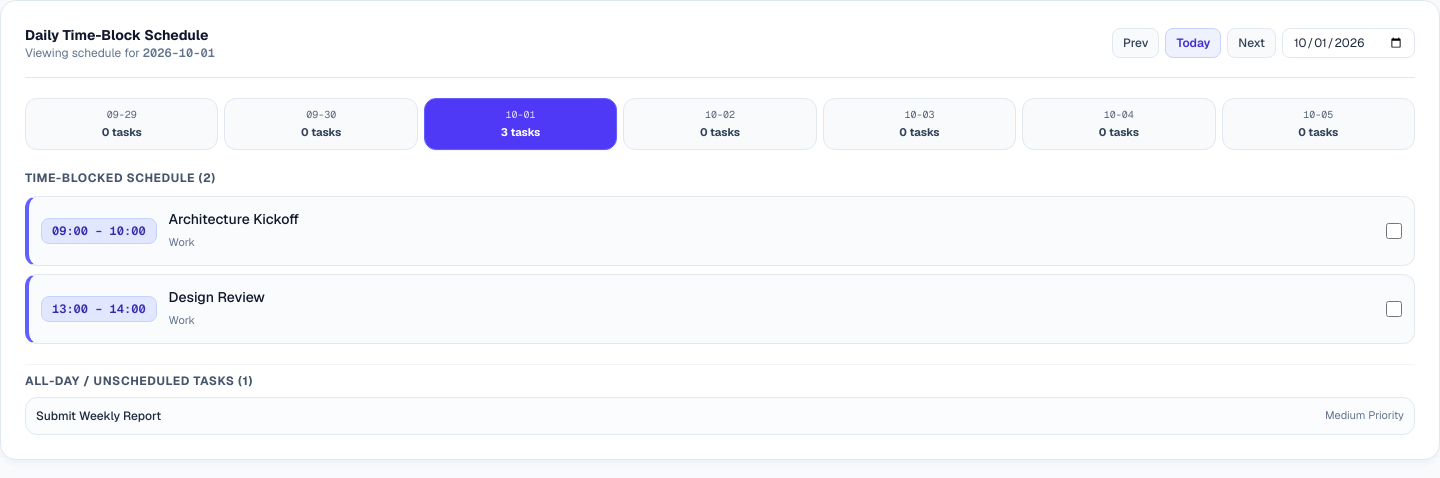
CalendarScheduleView › renders time-blocked tasks in chronological order and all-day tasks for the selected date, and switches dates
The width and height of the screenshot is (1440, 478).
expect the list item "09:00 – 10:00 Architecture Kickoff Work" is shown: met, box [25,196,1415,266]
expect the list item "13:00 – 14:00 Design Review Work" is shown: met, box [25,274,1415,344]
// Switch date using the date picker
Type "2026-10-15" into the date field named "select schedule date" at [1348, 43], box [1282,28,1415,58]
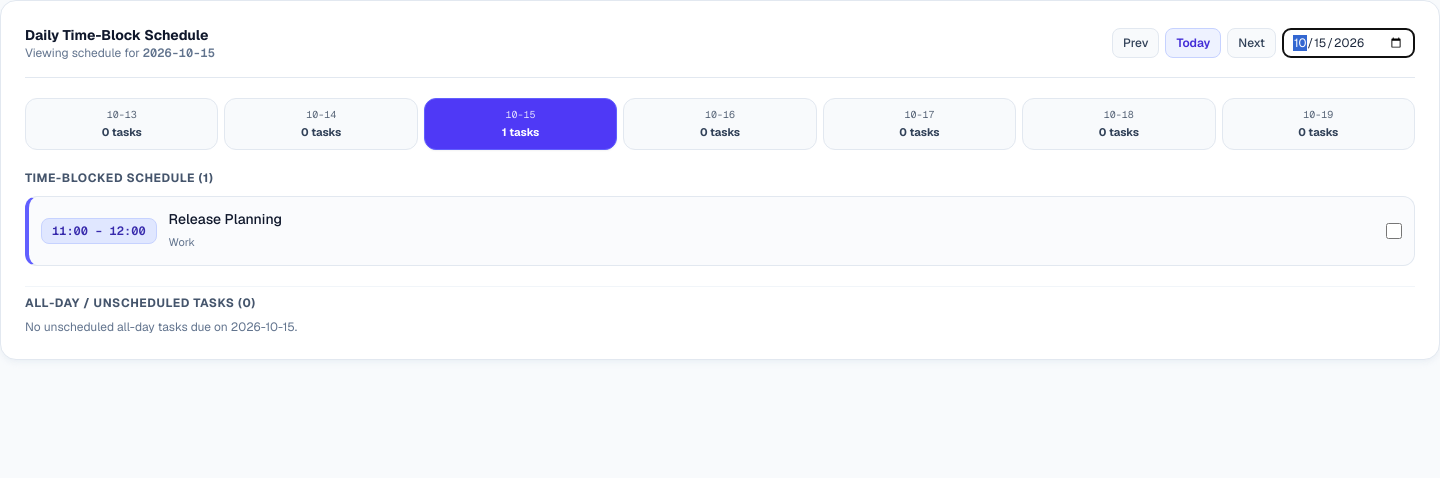
expect the text "Release Planning" is shown: met, box [169,208,282,228]
expect the text "11:00 – 12:00" is shown: met, box [41,218,157,244]
